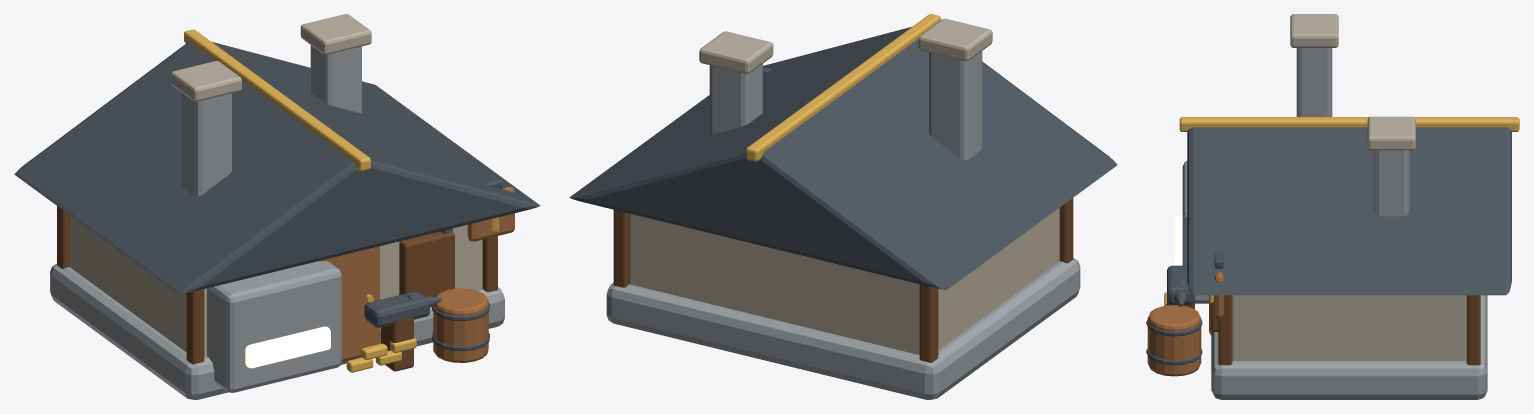
The model's file is RF_Building_Smithy_V2.fbx.
3 views of the same model, side by side, from view 1: azimuth 30°, elevation 25°; view 2: azimuth 150°, elevation 25°; view 3: azimuth 270°, elevation 25° (orthographic). The views are drawn at different scales.
Visible parts, largest first — view 1: Smithy_Roof.001, Smithy_OpenForge.001, Smithy_Lower.001, Smithy_Foundation.001, Smithy_ForgeChimney_Stack.001, Smithy_Door.001, Smithy_Barrel.001, Smithy_Frame.004, Smithy_Ridge.001, Smithy_Stack.001, Smithy_Embers.001, Smithy_Cap.001 (+7 smaller); view 2: Smithy_Roof.001, Smithy_Lower.001, Smithy_Foundation.001, Smithy_ForgeChimney_Stack.001, Smithy_Ridge.001, Smithy_Stack.001, Smithy_ForgeChimney_Cap.001, Smithy_Cap.001, Smithy_Post.005, Smithy_Post.007, Smithy_Post.004; view 3: Smithy_Roof.001, Smithy_Lower.001, Smithy_Foundation.001, Smithy_Ridge.001, Smithy_Barrel.001, Smithy_ForgeChimney_Stack.001, Smithy_Stack.001, Smithy_Cap.001, Smithy_ForgeChimney_Cap.001, Smithy_Post.007, Smithy_Post.006, Smithy_Anvil.001 (+2 smaller).
Boxes of the visible parts, box(x1,y1,x2,y2) form: Smithy_Roof.001: box(14, 41, 540, 294); Smithy_OpenForge.001: box(207, 261, 341, 392); Smithy_Lower.001: box(70, 215, 482, 356); Smithy_Foundation.001: box(50, 263, 504, 399); Smithy_ForgeChimney_Stack.001: box(181, 92, 231, 196); Smithy_Door.001: box(319, 246, 379, 362); Smithy_Barrel.001: box(433, 288, 488, 362); Smithy_Frame.004: box(399, 231, 454, 296); Smithy_Ridge.001: box(184, 29, 370, 171); Smithy_Stack.001: box(310, 45, 361, 113); Smithy_Embers.001: box(245, 326, 330, 368); Smithy_Cap.001: box(300, 14, 371, 54); Smithy_Roof.001: box(569, 27, 1117, 289); Smithy_Lower.001: box(629, 208, 1059, 354); Smithy_Foundation.001: box(606, 258, 1080, 399); Smithy_ForgeChimney_Stack.001: box(929, 51, 982, 160); Smithy_Ridge.001: box(746, 14, 940, 161); Smithy_Stack.001: box(709, 64, 762, 134); Smithy_ForgeChimney_Cap.001: box(918, 18, 992, 61); Smithy_Cap.001: box(699, 31, 773, 73); Smithy_Post.005: box(919, 284, 938, 362); Smithy_Post.007: box(613, 210, 629, 287); Smithy_Post.004: box(1059, 198, 1073, 263); Smithy_Roof.001: box(1187, 127, 1511, 295); Smithy_Lower.001: box(1232, 295, 1466, 360); Smithy_Foundation.001: box(1211, 295, 1487, 399); Smithy_Ridge.001: box(1179, 117, 1519, 131); Smithy_Barrel.001: box(1147, 305, 1201, 376); Smithy_ForgeChimney_Stack.001: box(1296, 48, 1332, 116); Smithy_Stack.001: box(1374, 150, 1409, 216); Smithy_Cap.001: box(1367, 116, 1415, 150); Smithy_ForgeChimney_Cap.001: box(1290, 14, 1338, 47); Smithy_Post.007: box(1466, 295, 1480, 365); Smithy_Post.006: box(1218, 295, 1232, 365); Smithy_Anvil.001: box(1167, 265, 1194, 304).
Bounding box in the file's own units: 6.3 × 5.86 × 4.57.
